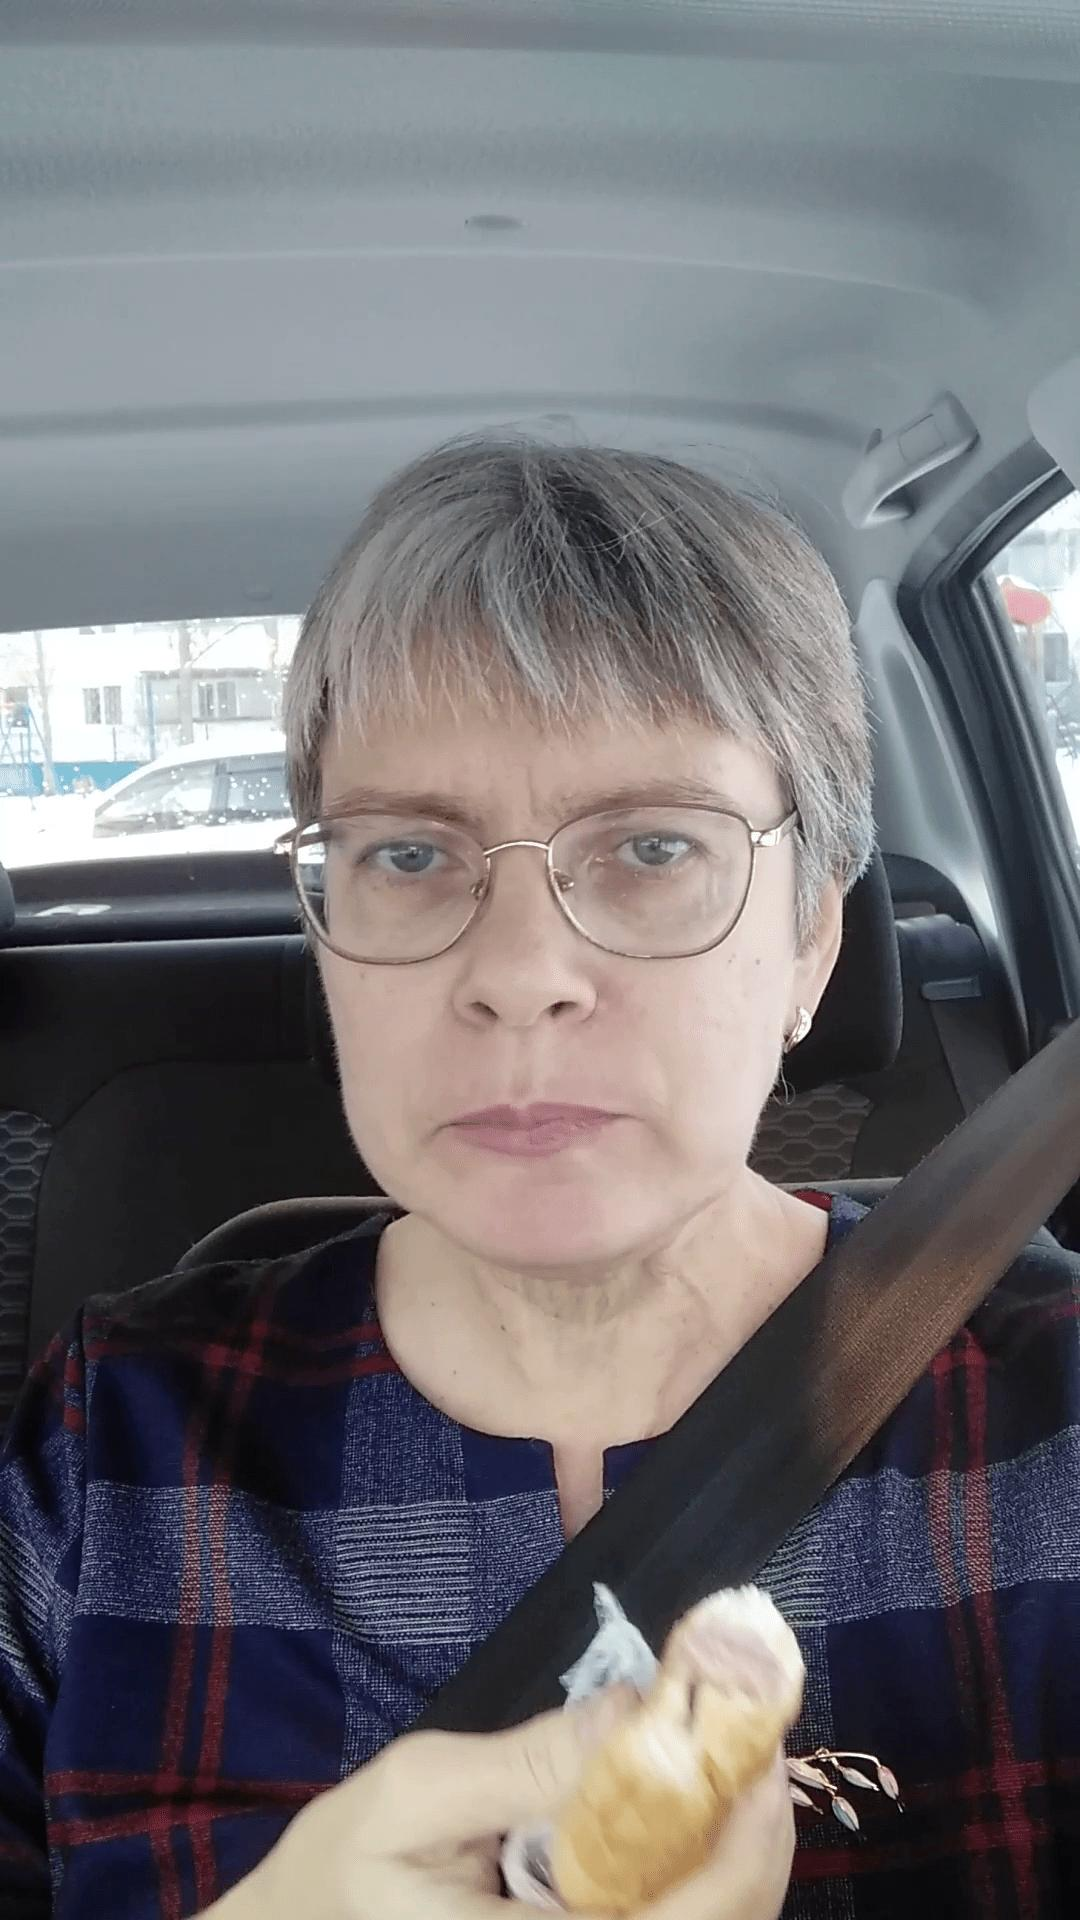Eating: (538, 1578, 849, 1909)
